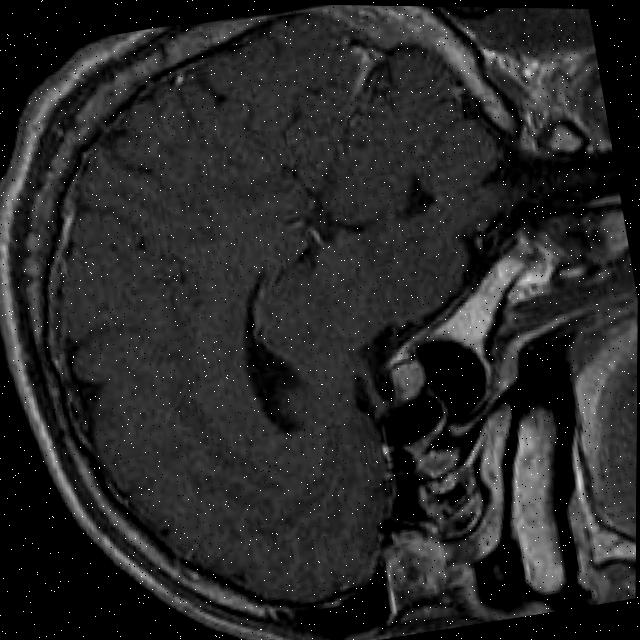Pituitary: (387, 354, 430, 406)
